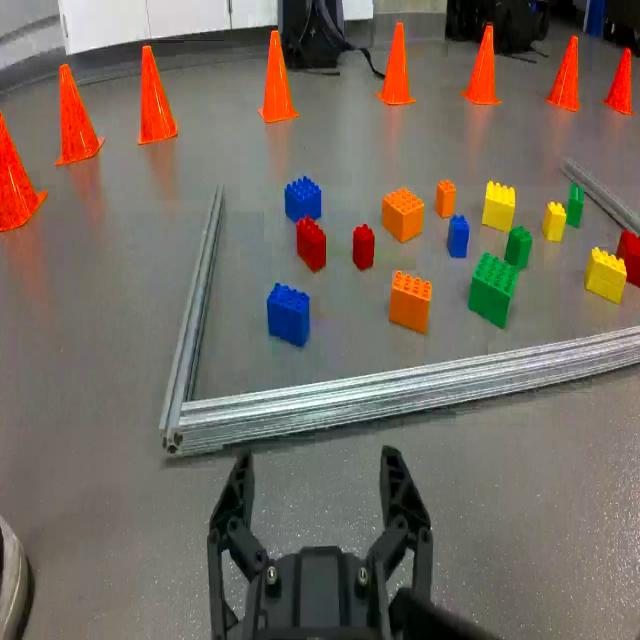block: (586, 247, 624, 303), (479, 181, 518, 233), (542, 198, 564, 242)
blue: (264, 278, 313, 350), (284, 173, 324, 225), (448, 215, 468, 258)
cone: (0, 103, 48, 229), (54, 58, 104, 164), (260, 28, 300, 125), (138, 48, 178, 144), (462, 19, 502, 108), (545, 33, 583, 117), (380, 21, 414, 107), (604, 43, 634, 119)
green: (470, 250, 519, 326), (505, 224, 530, 272), (564, 181, 586, 227)
metal barrier: (162, 158, 640, 461)
orange: (387, 266, 433, 332), (381, 182, 425, 243), (432, 177, 457, 217)
red goal: (292, 213, 330, 276), (348, 218, 377, 272), (616, 226, 640, 284)
